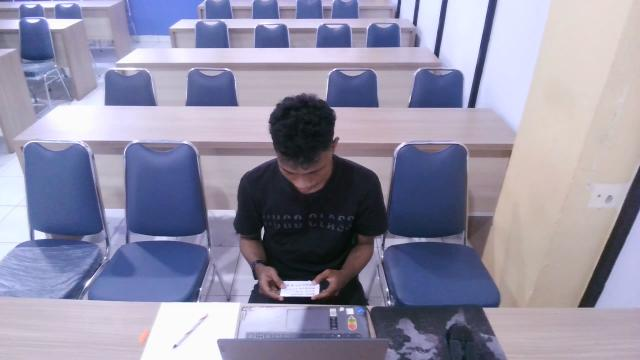Cheat_Sheet: (270, 270, 325, 301)
Head_Down_Extreme: (226, 88, 390, 321)
